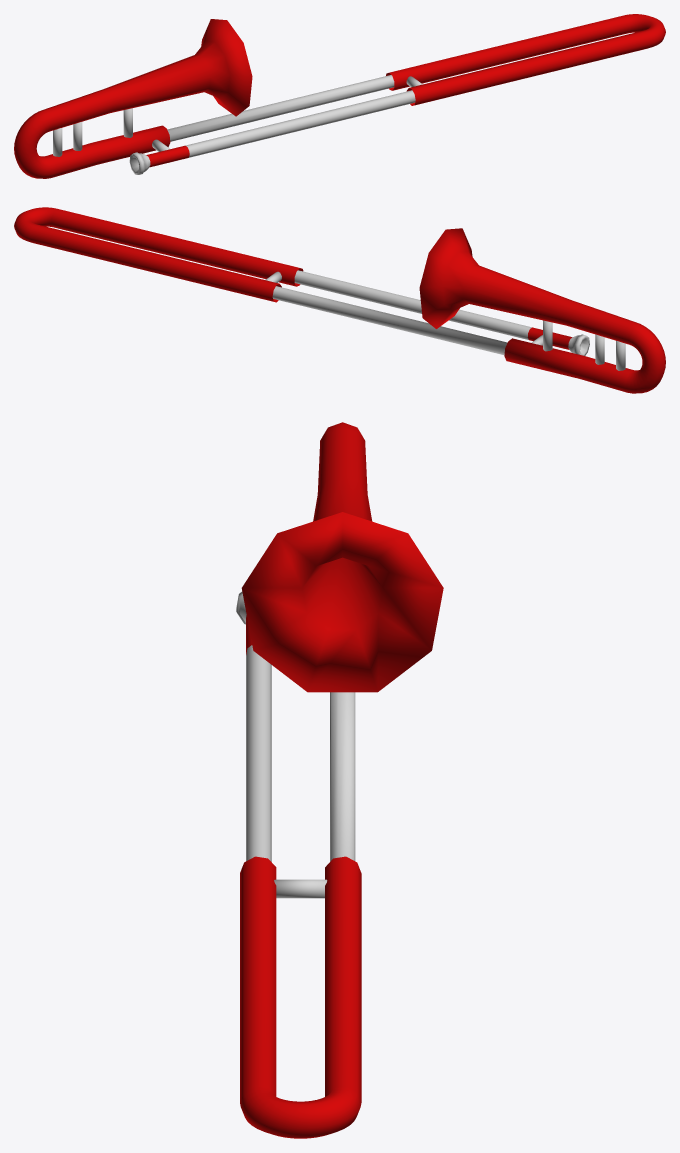
File: trombone.fbx
3 renders of one model, top to bottom at view 1: azimuth 30°, elevation 25°; view 2: azimuth 150°, elevation 25°; view 3: azimuth 270°, elevation 25°, orthographic. The views are drawn at different scales.
Visible parts, largest first — view 1: trombone; view 2: trombone; view 3: trombone.
Boxes of the visible parts, bbox=[...] form: trombone: bbox=[14, 14, 665, 178]; trombone: bbox=[14, 207, 665, 393]; trombone: bbox=[236, 422, 443, 1138].
Bounding box in the file's own units: 410 × 70.02 × 57.82.
